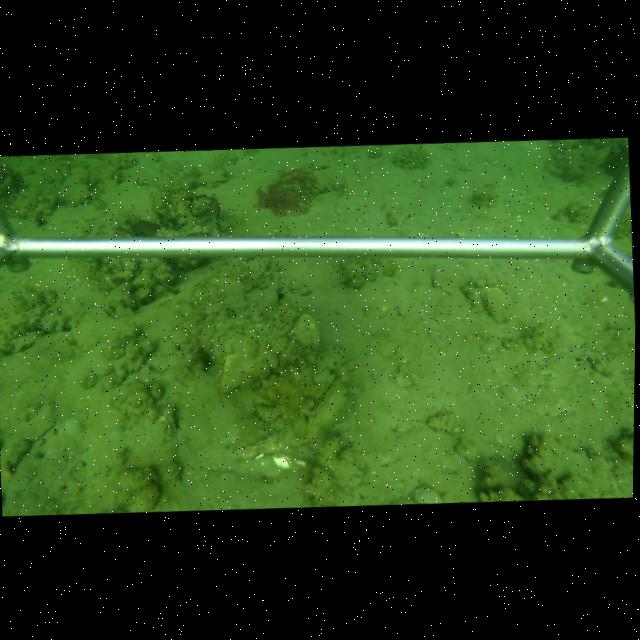Oyster-Closed: (291, 377, 348, 448), (1, 328, 61, 356), (123, 333, 154, 374), (153, 282, 181, 294)
Oyster-Indeterminate: (191, 275, 246, 313), (291, 312, 321, 350), (384, 205, 412, 229)
